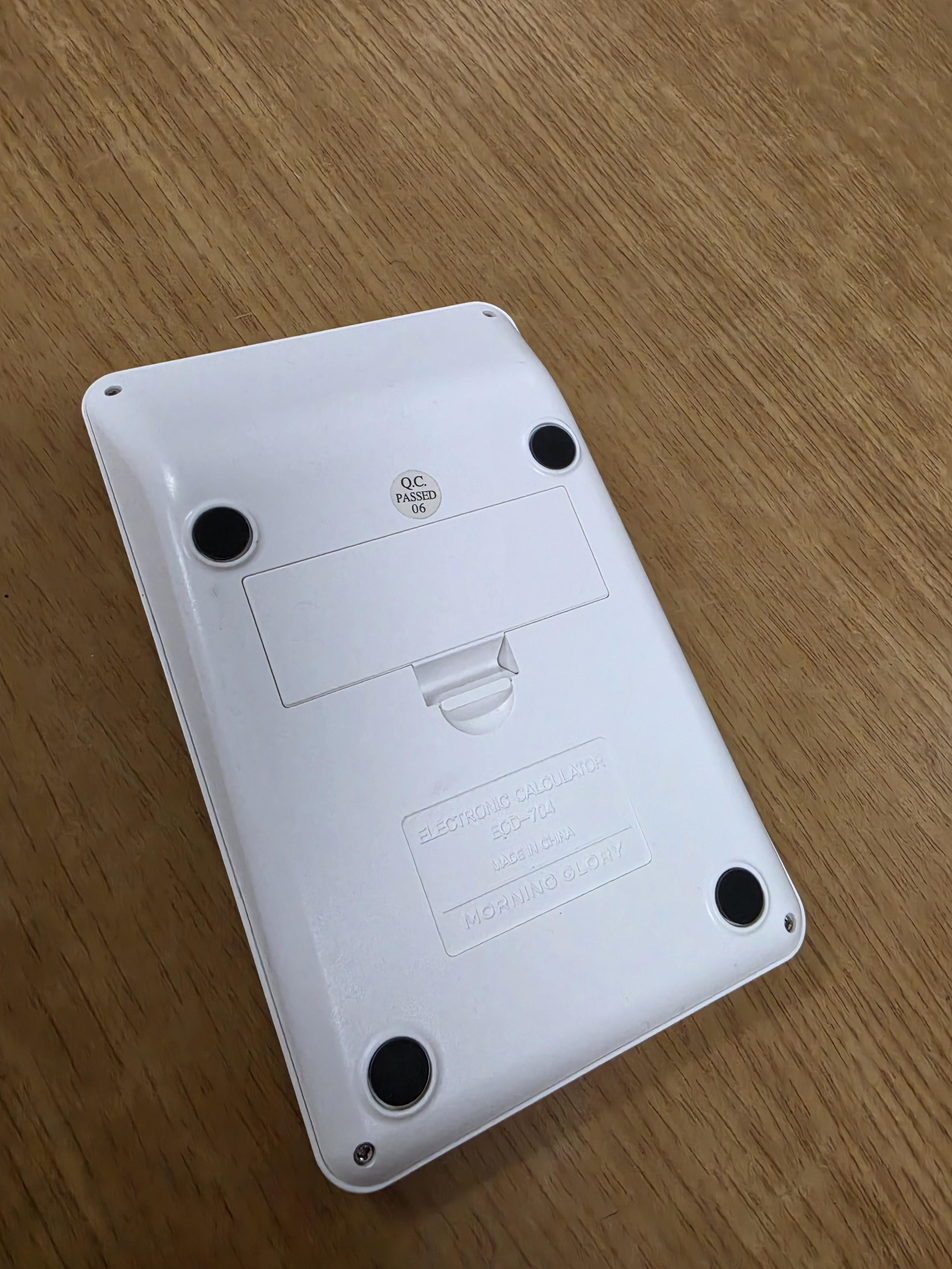calculator: (81, 301, 807, 1194)
